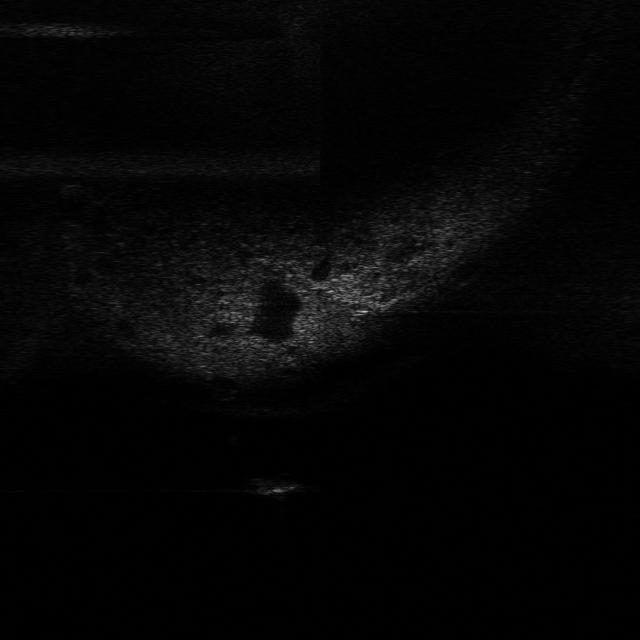cube: (270, 364, 300, 398)
